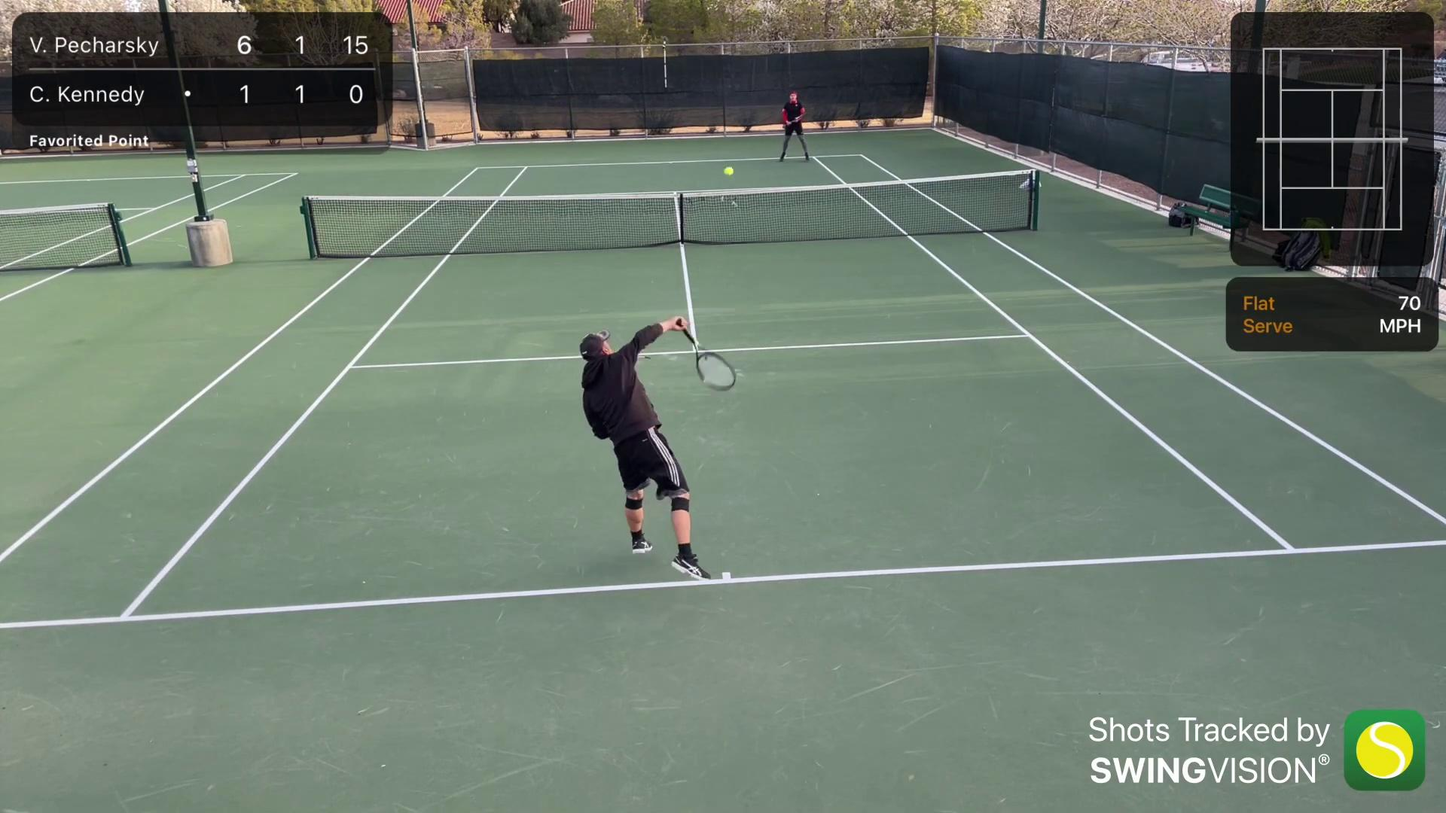ball: (719, 165, 740, 177)
